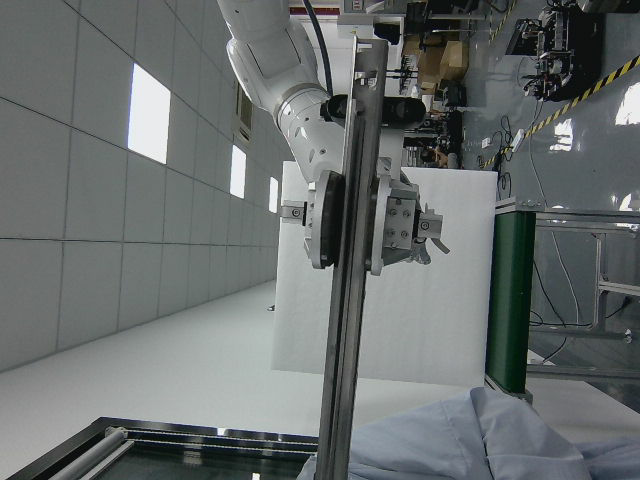up: (316, 39, 387, 477)
